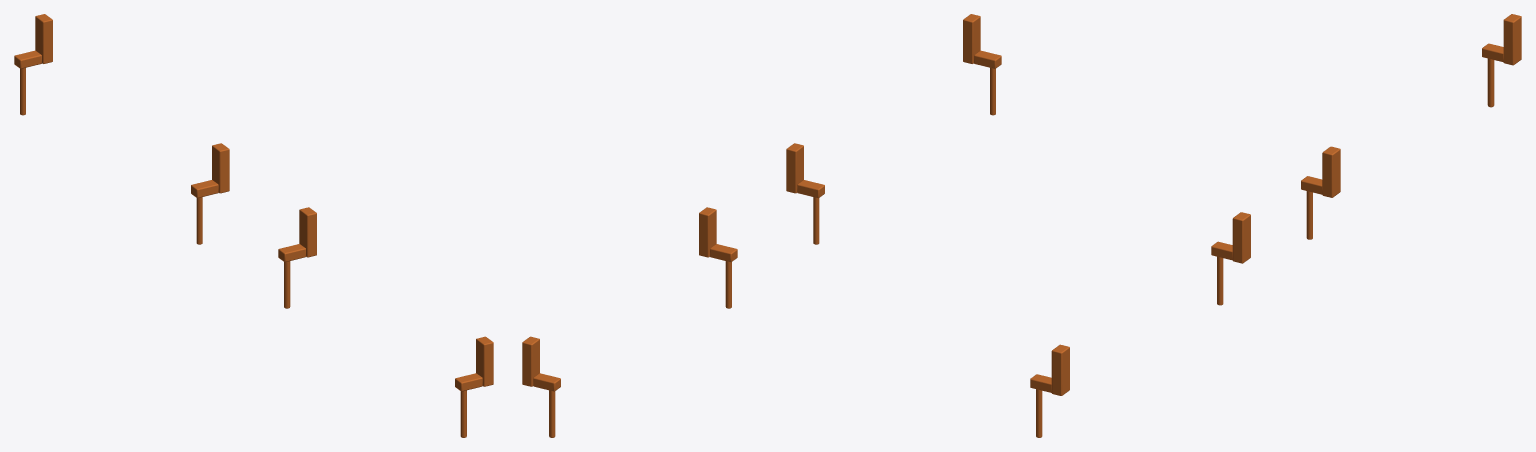
Rendered from stacker_layer_stops.glb.
The picture shows the model from 3 angles, left to right: view 1: azimuth 30°, elevation 25°; view 2: azimuth 150°, elevation 25°; view 3: azimuth 330°, elevation 25°; orthographic projection. The views are drawn at different scales.
Parts seen in each view (by area): view 1: LayerStops; view 2: LayerStops; view 3: LayerStops.
Part boxes in pixels (left/top/right/bottom): LayerStops: left=14, top=14, right=493, bottom=437; LayerStops: left=522, top=14, right=1001, bottom=437; LayerStops: left=1030, top=14, right=1521, bottom=437.
Bounding box in the file's own units: 0.11 × 0.3 × 2.67.
